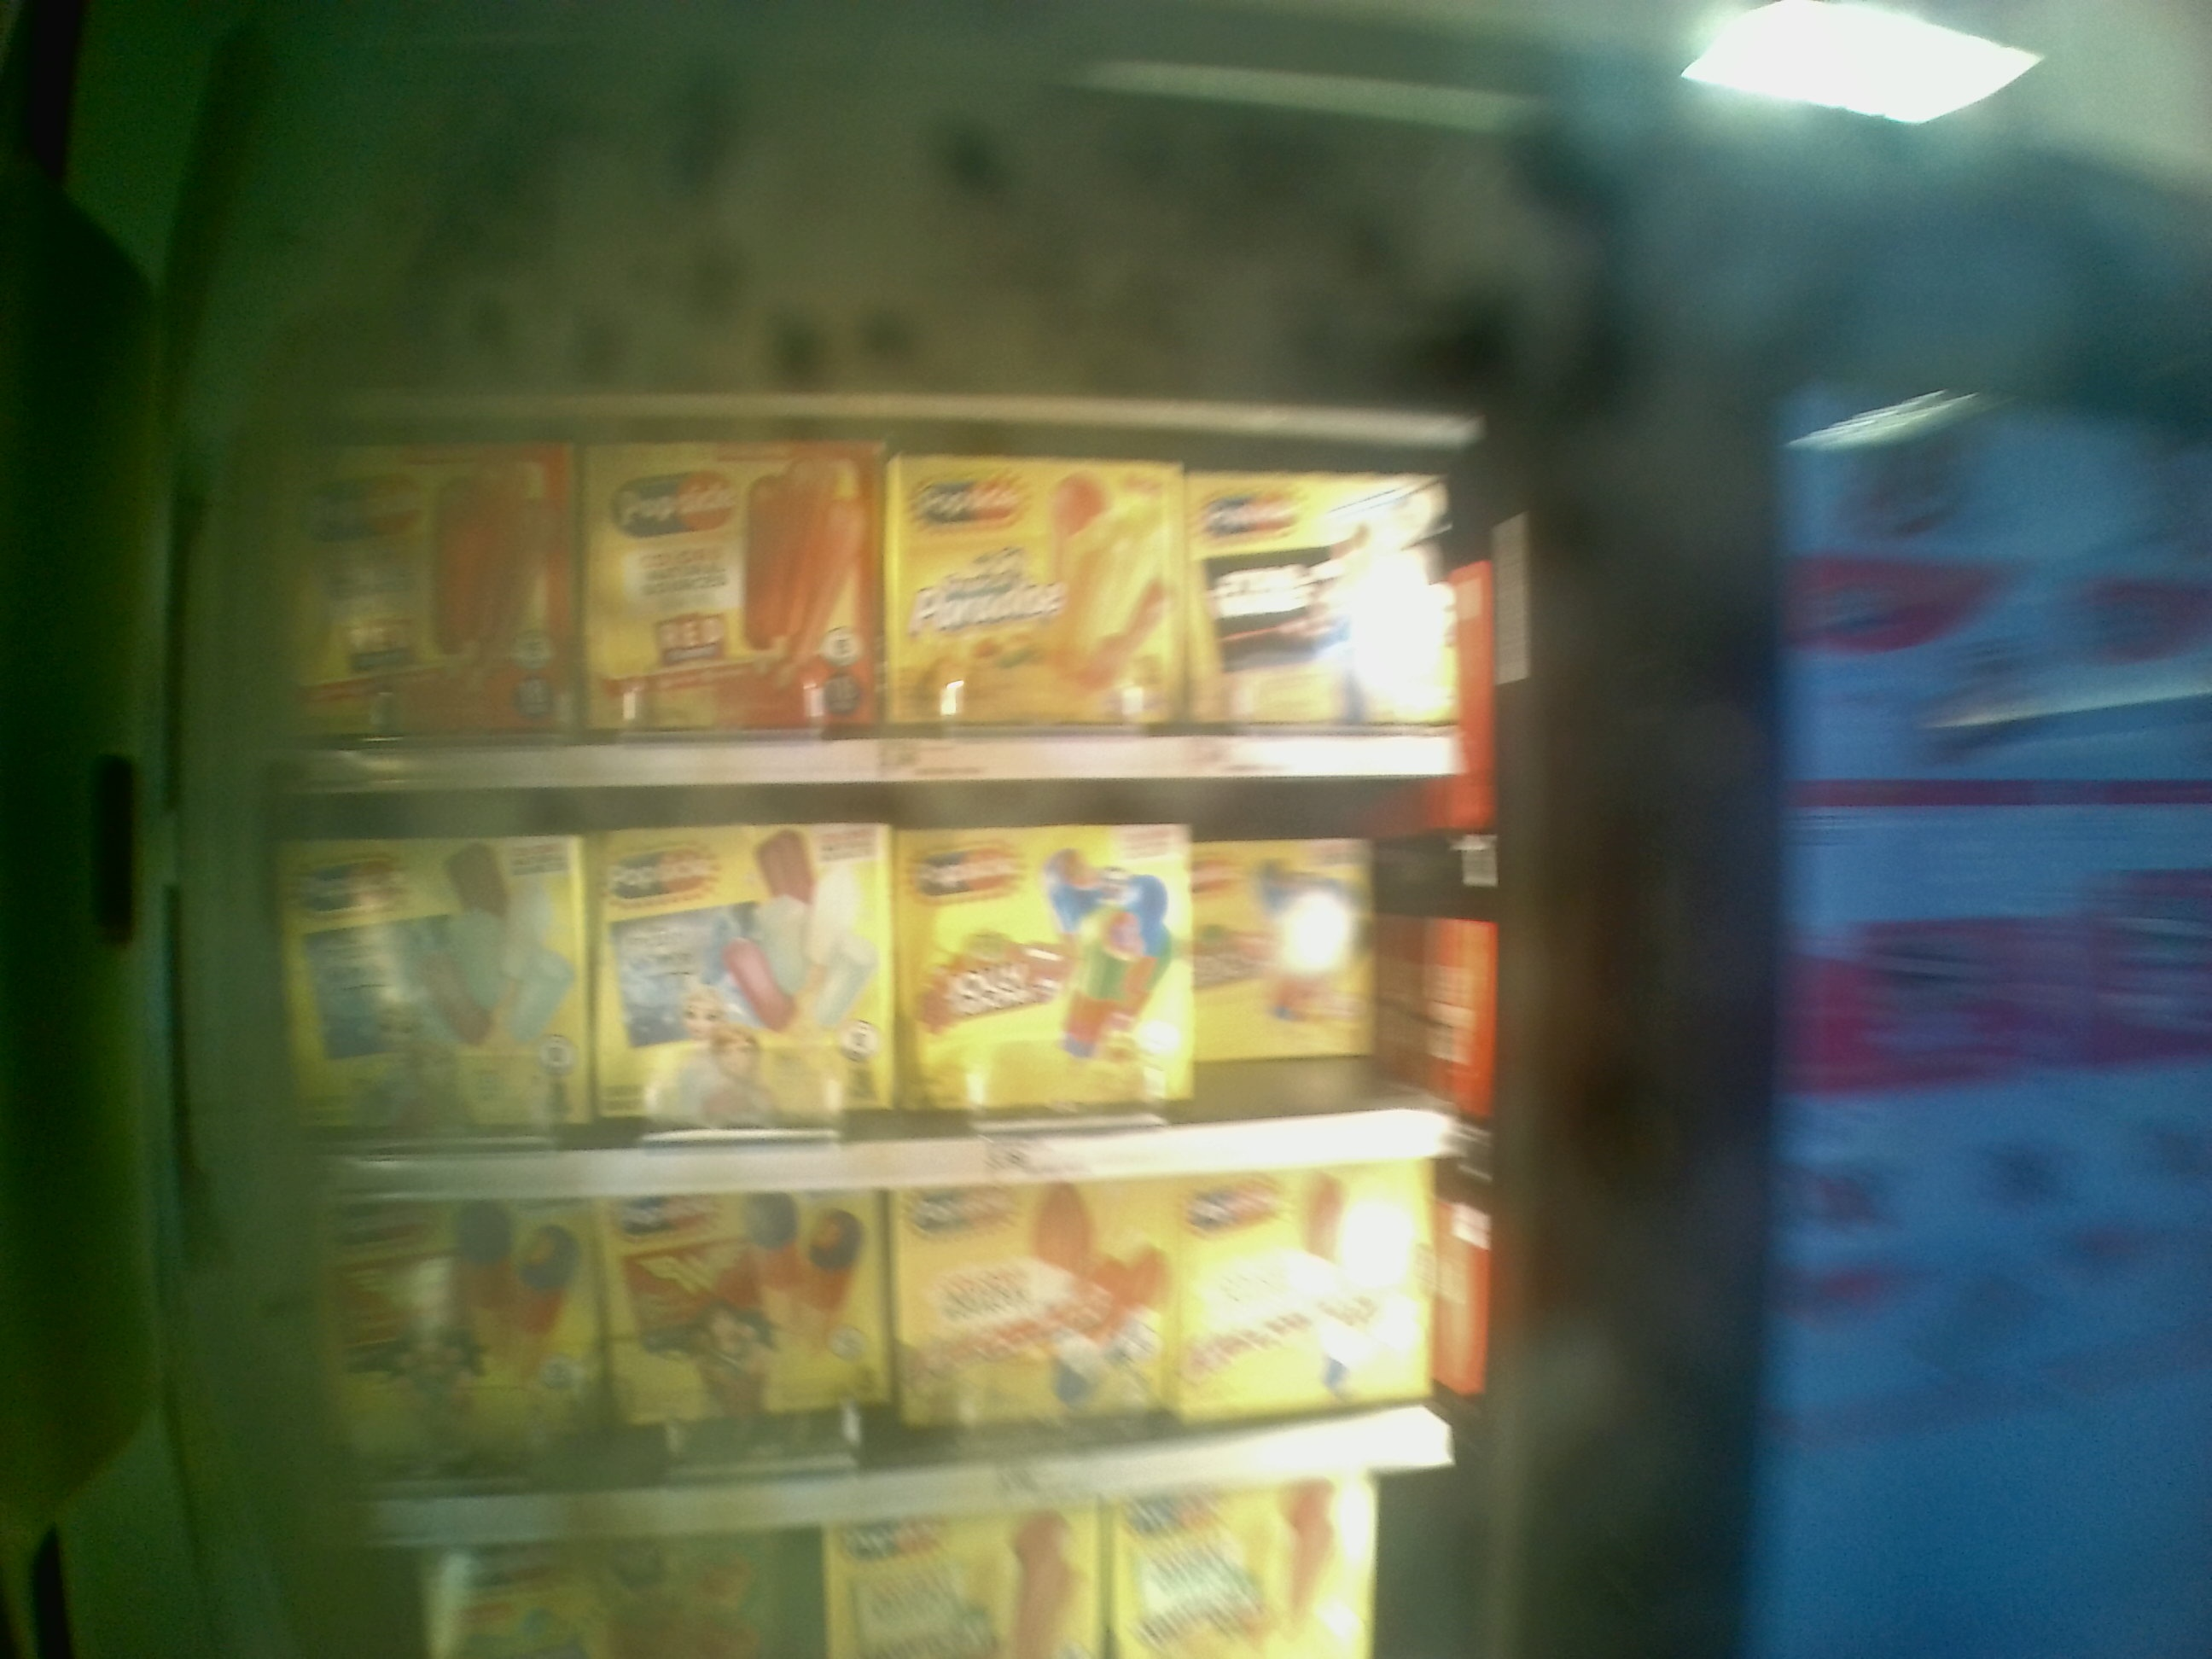frozen-food-shelf: (261, 791, 1484, 1206), (263, 413, 1484, 791)
